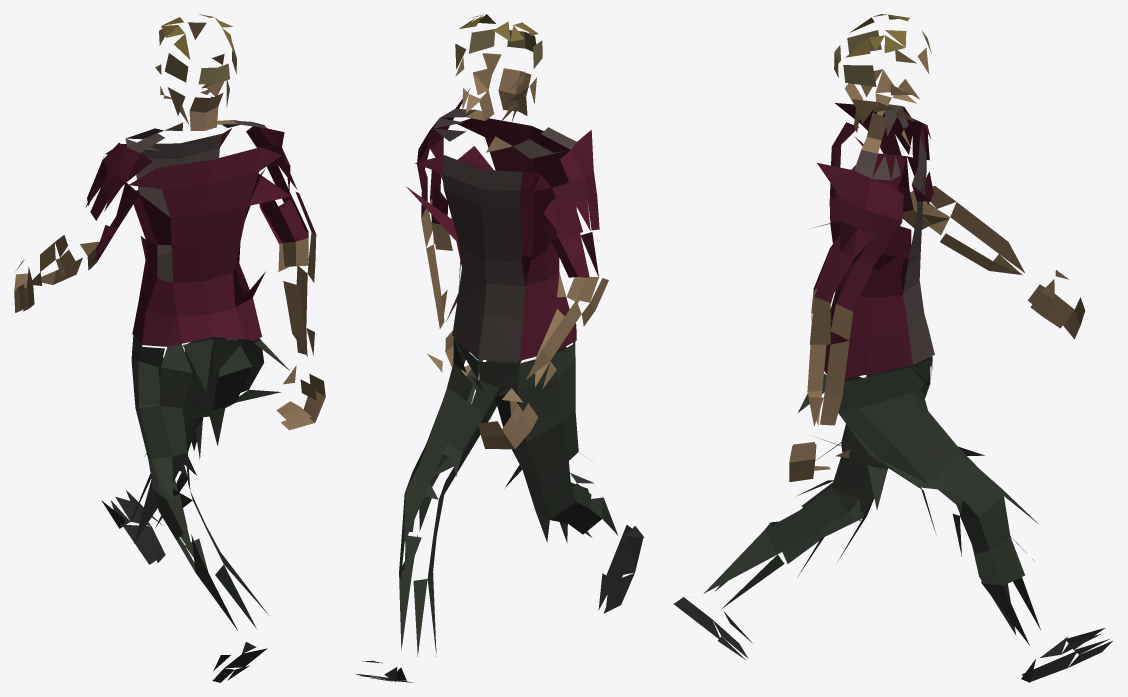
File: personfar_2_w3.fbx
3 renders of one model, left to right at view 1: azimuth 30°, elevation 25°; view 2: azimuth 150°, elevation 25°; view 3: azimuth 270°, elevation 25°, orthographic. The views are drawn at different scales.
Visible parts, largest first — view 1: BaseHuman; view 2: BaseHuman; view 3: BaseHuman.
Part boxes in pixels (left/top/right/bottom): BaseHuman: left=14, top=14, right=325, bottom=682; BaseHuman: left=356, top=14, right=644, bottom=682; BaseHuman: left=674, top=14, right=1112, bottom=682.
Size of the model in its own units: 0.3439 by 0.9787 by 0.593.
